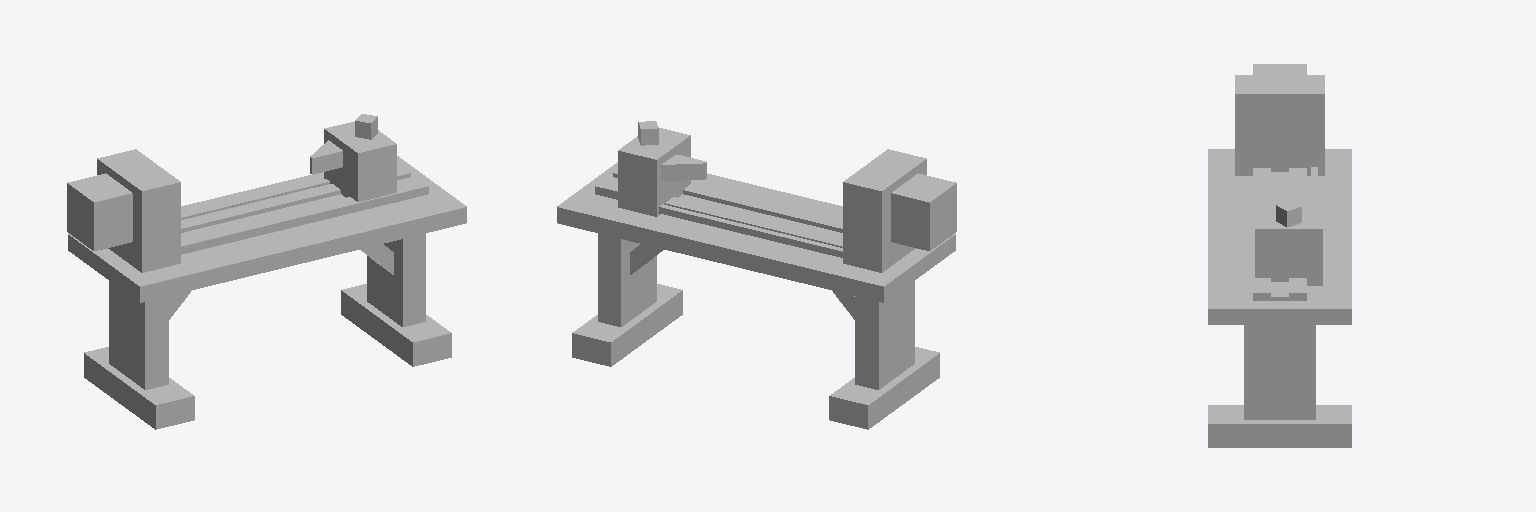
File: lathe_base.obj
3 views of the same model, side by side, from view 1: azimuth 30°, elevation 25°; view 2: azimuth 150°, elevation 25°; view 3: azimuth 270°, elevation 25° (orthographic).
Parts seen in each view (by area): view 1: cube; view 2: cube; view 3: cube.
Part boxes in pixels (x1,y1,x2,y2): cube: (67, 114, 466, 429); cube: (557, 121, 956, 429); cube: (1208, 64, 1351, 447).
Size of the model in its own units: 2.81 by 1.75 by 1.